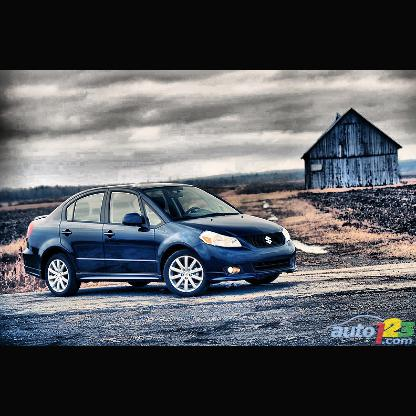Suzuki SX4 Sedan 2012: (21, 182, 297, 299)
